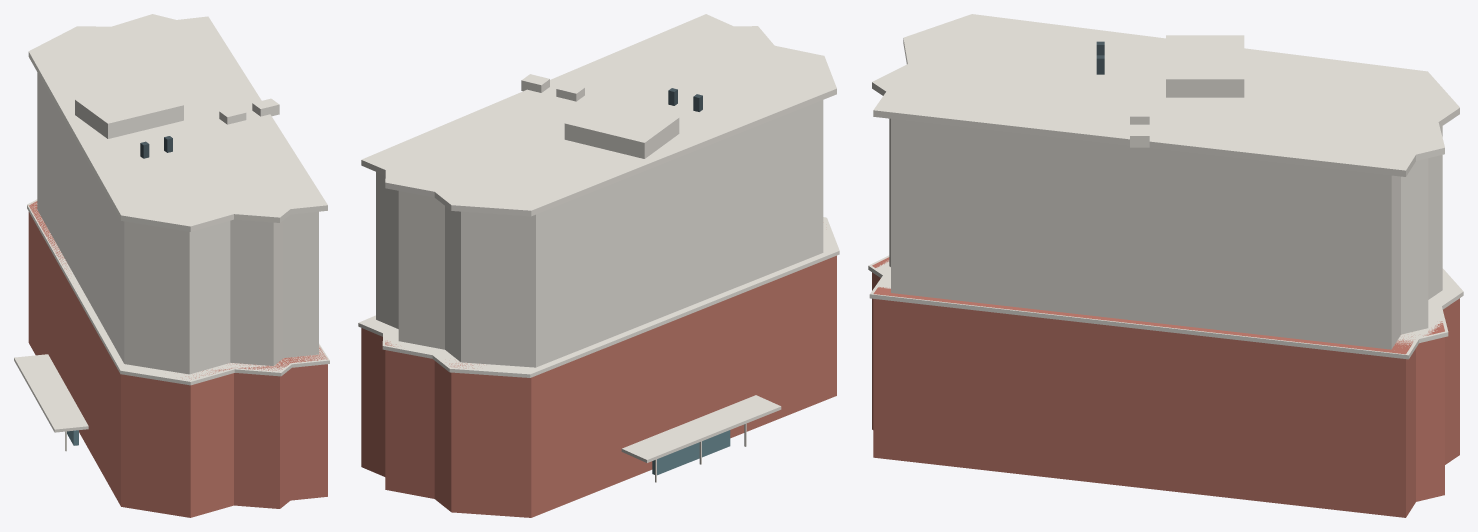
Rendered from chow_yei_ching_building.glb.
3 renders of one model, left to right at view 1: azimuth 30°, elevation 25°; view 2: azimuth 150°, elevation 25°; view 3: azimuth 270°, elevation 25°, orthographic. The views are drawn at different scales.
Parts seen in each view (by area): view 1: Chow Yei Ching Building_upper, Chow Yei Ching Building_base, Chow Yei Ching Building_parapet, Chow Yei Ching Building_roof_plant, Chow Yei Ching Building_band, Chow Yei Ching Building_canopy, Chow Yei Ching Building_ac_1, Chow Yei Ching Building_ac_0; view 2: Chow Yei Ching Building_upper, Chow Yei Ching Building_base, Chow Yei Ching Building_parapet, Chow Yei Ching Building_band, Chow Yei Ching Building_roof_plant, Chow Yei Ching Building_canopy, Chow Yei Ching Building_door; view 3: Chow Yei Ching Building_base, Chow Yei Ching Building_upper, Chow Yei Ching Building_parapet, Chow Yei Ching Building_band, Chow Yei Ching Building_roof_plant.
Boxes of the visible parts, x1,y1,x2,y2 form: Chow Yei Ching Building_upper: [37, 73, 318, 374]; Chow Yei Ching Building_base: [28, 201, 327, 517]; Chow Yei Ching Building_parapet: [28, 14, 327, 231]; Chow Yei Ching Building_roof_plant: [75, 81, 183, 138]; Chow Yei Ching Building_band: [27, 199, 329, 385]; Chow Yei Ching Building_canopy: [14, 354, 88, 432]; Chow Yei Ching Building_ac_1: [252, 98, 279, 116]; Chow Yei Ching Building_ac_0: [219, 106, 246, 124]; Chow Yei Ching Building_upper: [376, 100, 823, 367]; Chow Yei Ching Building_base: [361, 255, 836, 517]; Chow Yei Ching Building_parapet: [361, 14, 836, 216]; Chow Yei Ching Building_band: [358, 217, 839, 377]; Chow Yei Ching Building_roof_plant: [564, 98, 679, 158]; Chow Yei Ching Building_canopy: [621, 395, 781, 462]; Chow Yei Ching Building_door: [652, 430, 730, 475]; Chow Yei Ching Building_base: [872, 257, 1459, 517]; Chow Yei Ching Building_upper: [889, 118, 1442, 349]; Chow Yei Ching Building_parapet: [872, 14, 1459, 176]; Chow Yei Ching Building_band: [868, 255, 1463, 359]; Chow Yei Ching Building_roof_plant: [1166, 35, 1244, 97].
Size of the model in its own units: 29.27 by 30.9 by 45.59.
